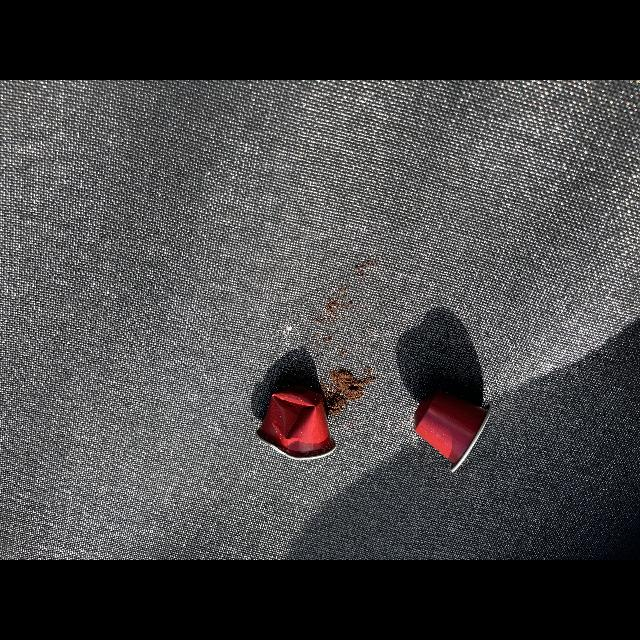damaged_capsule: (248, 371, 352, 467)
intact_capsule: (402, 379, 506, 475)
